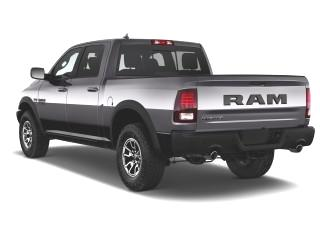ram: (217, 91, 292, 110)
